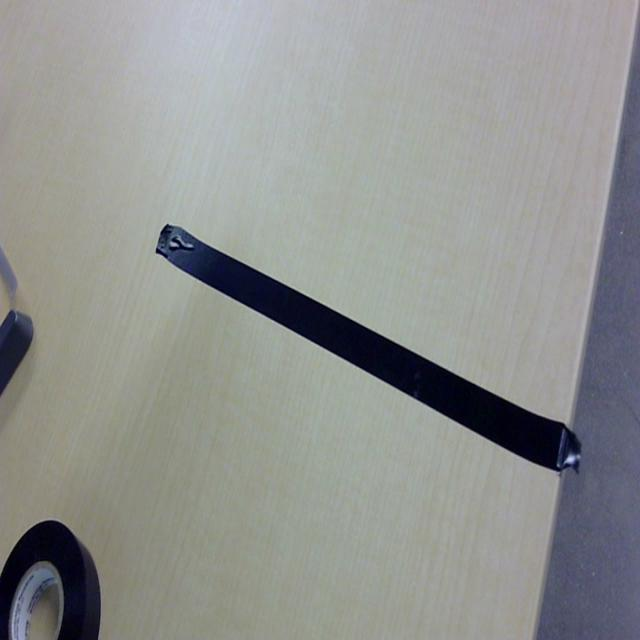tape: (156, 221, 562, 472)
